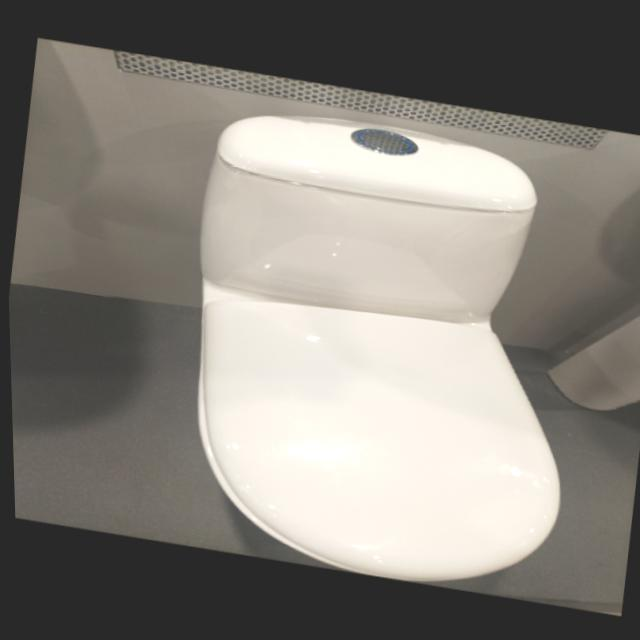toilet: (152, 95, 609, 602)
